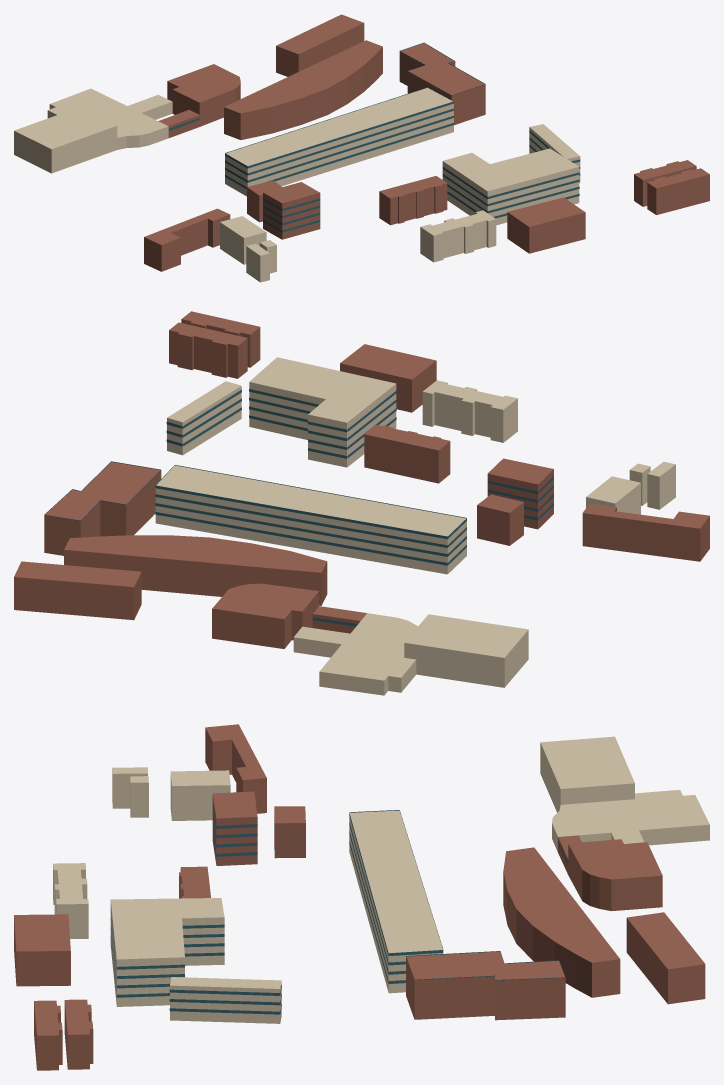
Rendered from city_-1_-6.glb.
The picture shows the model from 3 angles, top to bottom: view 1: azimuth 30°, elevation 25°; view 2: azimuth 150°, elevation 25°; view 3: azimuth 270°, elevation 25°; orthographic projection. The views are drawn at different scales.
Visible parts, largest first — view 1: city_-1_-6; view 2: city_-1_-6; view 3: city_-1_-6.
Part boxes in pixels (bbox=[...]): city_-1_-6: bbox=[14, 14, 709, 282]; city_-1_-6: bbox=[14, 311, 709, 695]; city_-1_-6: bbox=[14, 724, 709, 1070].
Size of the model in its own units: 287 by 20.4 by 271.
